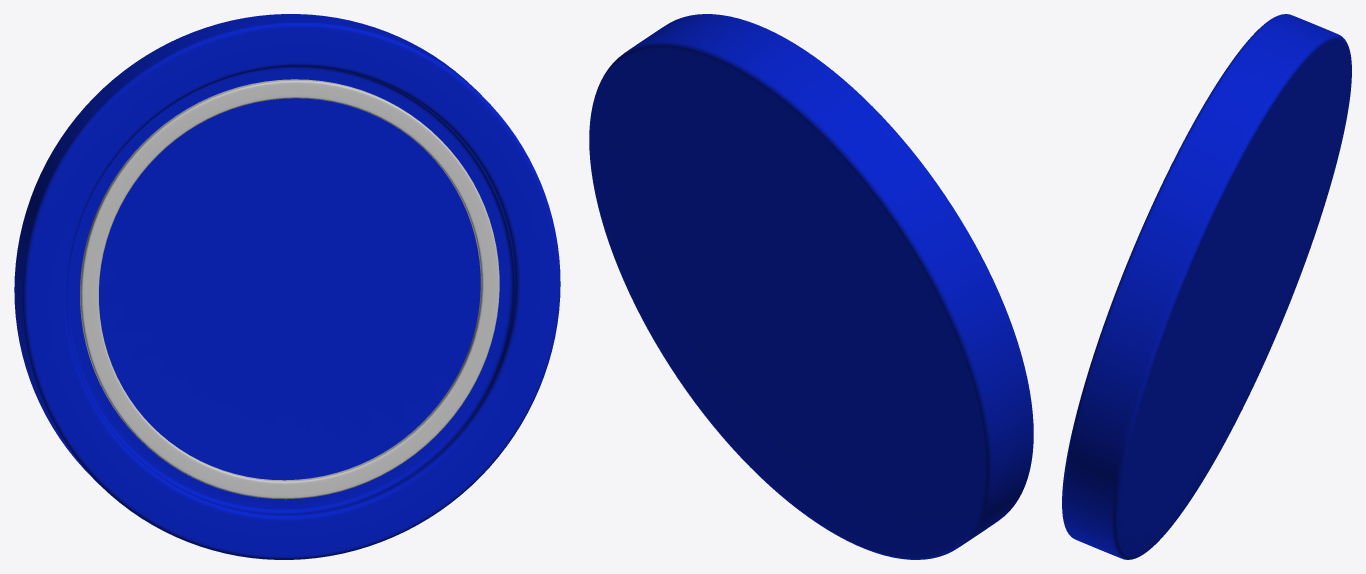
File: Toncoin.obj
3 views of the same model, side by side, from view 1: azimuth 30°, elevation 25°; view 2: azimuth 150°, elevation 25°; view 3: azimuth 270°, elevation 25° (orthographic). The views are drawn at different scales.
Parts seen in each view (by area): view 1: Cylinder.014, Curve.039; view 2: Cylinder.014; view 3: Cylinder.014.
Boxes of the visible parts, bbox=[...] form: Cylinder.014: bbox=[14, 14, 560, 559]; Curve.039: bbox=[80, 79, 499, 499]; Cylinder.014: bbox=[589, 14, 1033, 559]; Cylinder.014: bbox=[1062, 14, 1351, 559].
Size of the model in its own units: 5.35 by 5.44 by 2.81.
